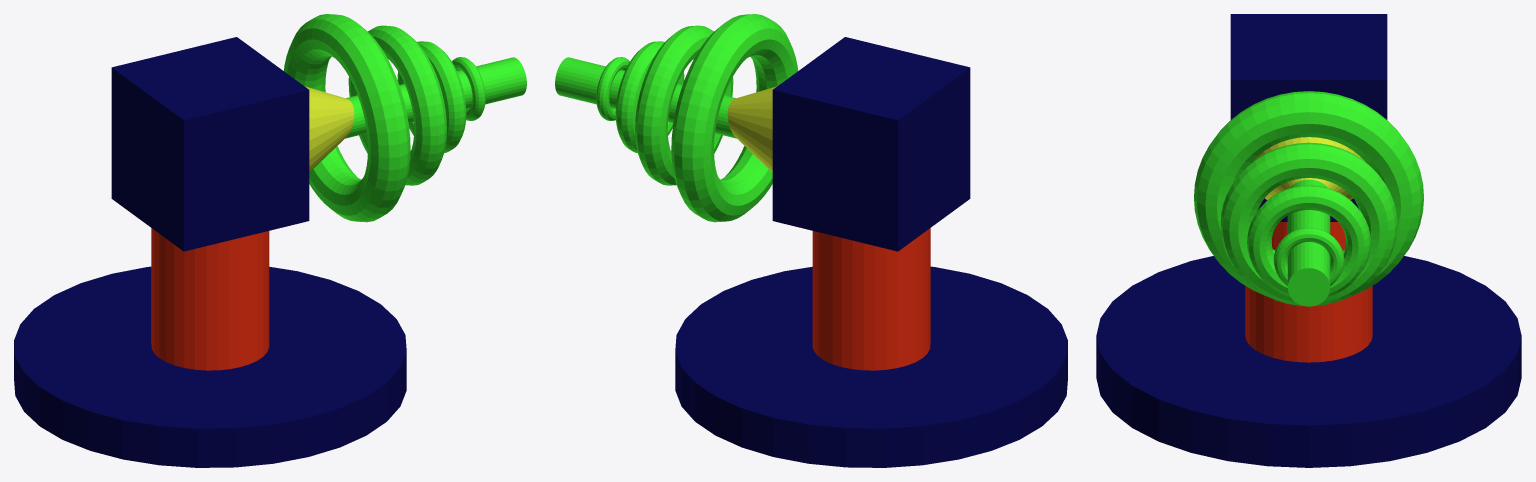
The model's file is TurretTower.fbx.
3 renders of one model, left to right at view 1: azimuth 30°, elevation 25°; view 2: azimuth 150°, elevation 25°; view 3: azimuth 270°, elevation 25°, orthographic. The views are drawn at different scales.
Parts seen in each view (by area): view 1: Base, Head, SpinBody, Syncronous, Syncronous1, Barrel Plasma, Core Plasma, Syncronous2, Syncronous3; view 2: Base, Head, SpinBody, Syncronous, Syncronous1, Barrel Plasma, Core Plasma, Syncronous2, Syncronous3; view 3: Base, Syncronous, Head, Syncronous1, SpinBody, Syncronous2, Barrel Plasma, Syncronous3, Core Plasma.
Part boxes in pixels (x1,y1,x2,y2): Base: (14,266,406,467); Head: (111,37,309,251); SpinBody: (151,228,269,370); Syncronous: (284,14,410,222); Syncronous1: (348,25,446,185); Barrel Plasma: (345,57,526,138); Core Plasma: (305,86,354,172); Syncronous2: (397,41,466,152); Syncronous3: (452,57,485,120); Base: (675,266,1067,467); Head: (772,37,970,251); SpinBody: (812,228,930,370); Syncronous: (671,14,797,222); Syncronous1: (635,25,733,185); Barrel Plasma: (555,57,736,138); Core Plasma: (727,86,776,172); Syncronous2: (615,41,684,152); Syncronous3: (596,57,629,120); Base: (1096,256,1521,467); Syncronous: (1194,91,1423,296); Head: (1230,14,1387,221); Syncronous1: (1220,142,1397,305); SpinBody: (1245,222,1372,362); Syncronous2: (1247,185,1370,296); Barrel Plasma: (1287,179,1330,306); Syncronous3: (1273,227,1344,285); Core Plasma: (1253,137,1364,200).
Bounding box in the file's own units: 280 × 185 × 200.
